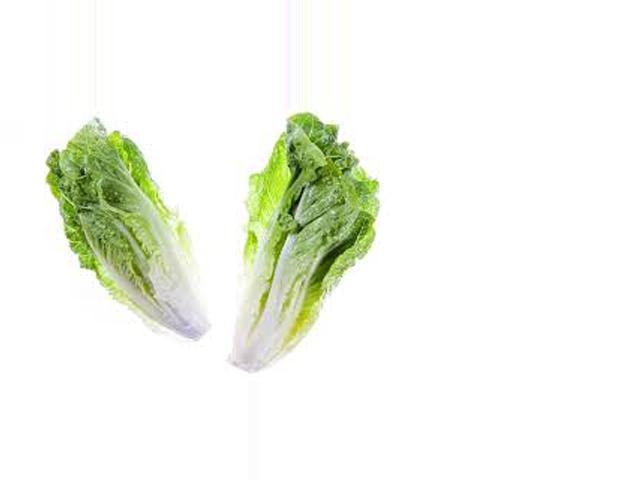lettuce: (39, 121, 210, 366)
